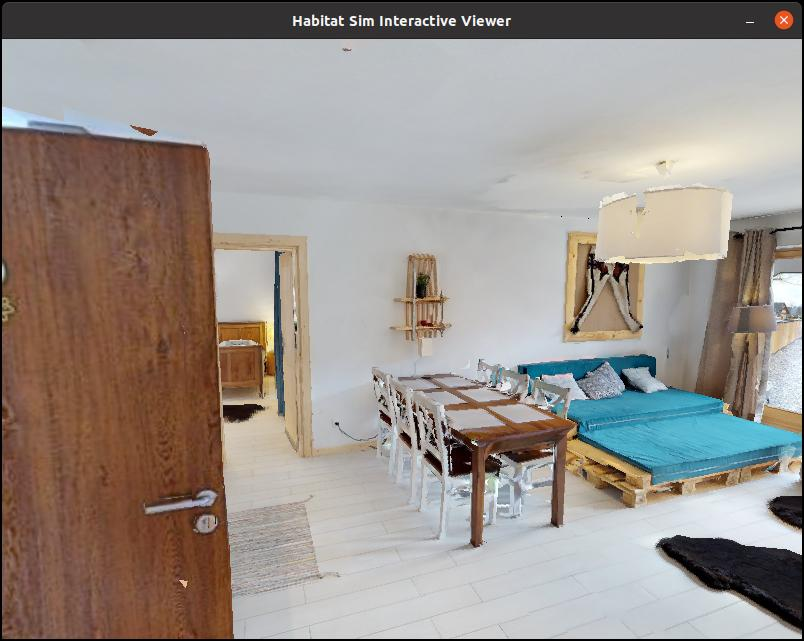chair: (395, 379, 524, 548)
door: (0, 151, 243, 641)
door-frame: (209, 239, 321, 480)
sofa: (507, 339, 804, 504)
table: (353, 351, 612, 550)
